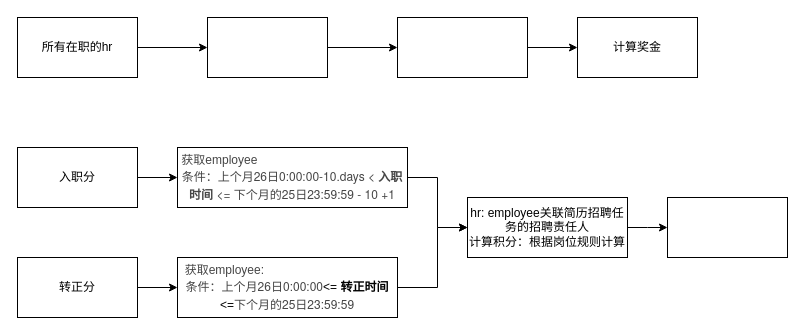
The diagram is 805 pixels wide and 335 high, and some of its shapes have lost their labels. Here are the shapes that lost their labels. From the top down, the centre of each, then its label:
At point (267, 47): "获取hr上一个月招聘入职的employee".
At point (462, 47): "根据employee岗位和入职留存时间计算积分".
At point (727, 227): "根据积分计算奖金".
